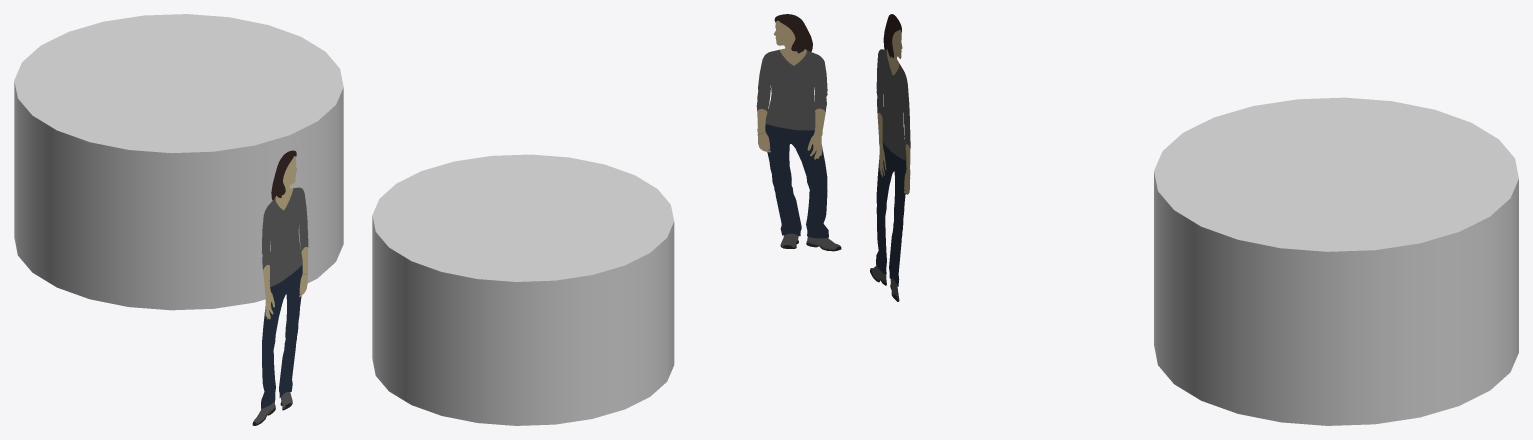
Rendered from SketchupCylinder.dae.
3 views of the same model, side by side, from view 1: azimuth 30°, elevation 25°; view 2: azimuth 150°, elevation 25°; view 3: azimuth 270°, elevation 25° (orthographic). The views are drawn at different scales.
Parts seen in each view (by area): view 1: SketchUp, Susan (×5); view 2: SketchUp, Susan (×5); view 3: SketchUp, Susan (×2).
Part boxes in pixels (x1=…): SketchUp: x1=14, y1=14, x2=343, y2=310; Susan (×5): x1=261, y1=150, x2=308, y2=408; SketchUp: x1=372, y1=154, x2=674, y2=425; Susan (×5): x1=756, y1=14, x2=828, y2=238; SketchUp: x1=1154, y1=97, x2=1518, y2=425; Susan (×2): x1=876, y1=49, x2=910, y2=286.
Size of the model in its own units: 77.53 by 138 by 66.6.
